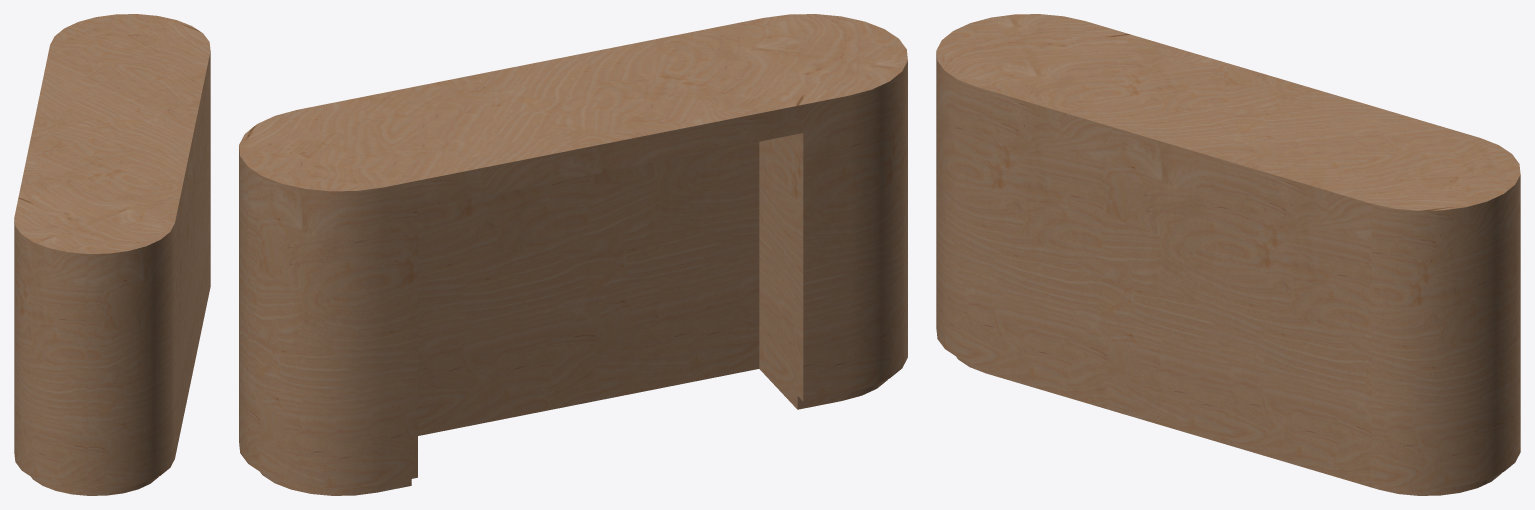
Rendered from Escritorio_Stand1.obj.
3 views of the same model, side by side, from view 1: azimuth 30°, elevation 25°; view 2: azimuth 150°, elevation 25°; view 3: azimuth 270°, elevation 25° (orthographic). The views are drawn at different scales.
Visible parts, largest first — view 1: Escritorio_Stand1; view 2: Escritorio_Stand1; view 3: Escritorio_Stand1.
Part boxes in pixels (bbox=[...]): Escritorio_Stand1: bbox=[14, 14, 210, 495]; Escritorio_Stand1: bbox=[239, 14, 907, 495]; Escritorio_Stand1: bbox=[936, 14, 1520, 495].
Bounding box in the file's own units: 1.56 × 1.07 × 1.95.
1 material, 1 textured.
